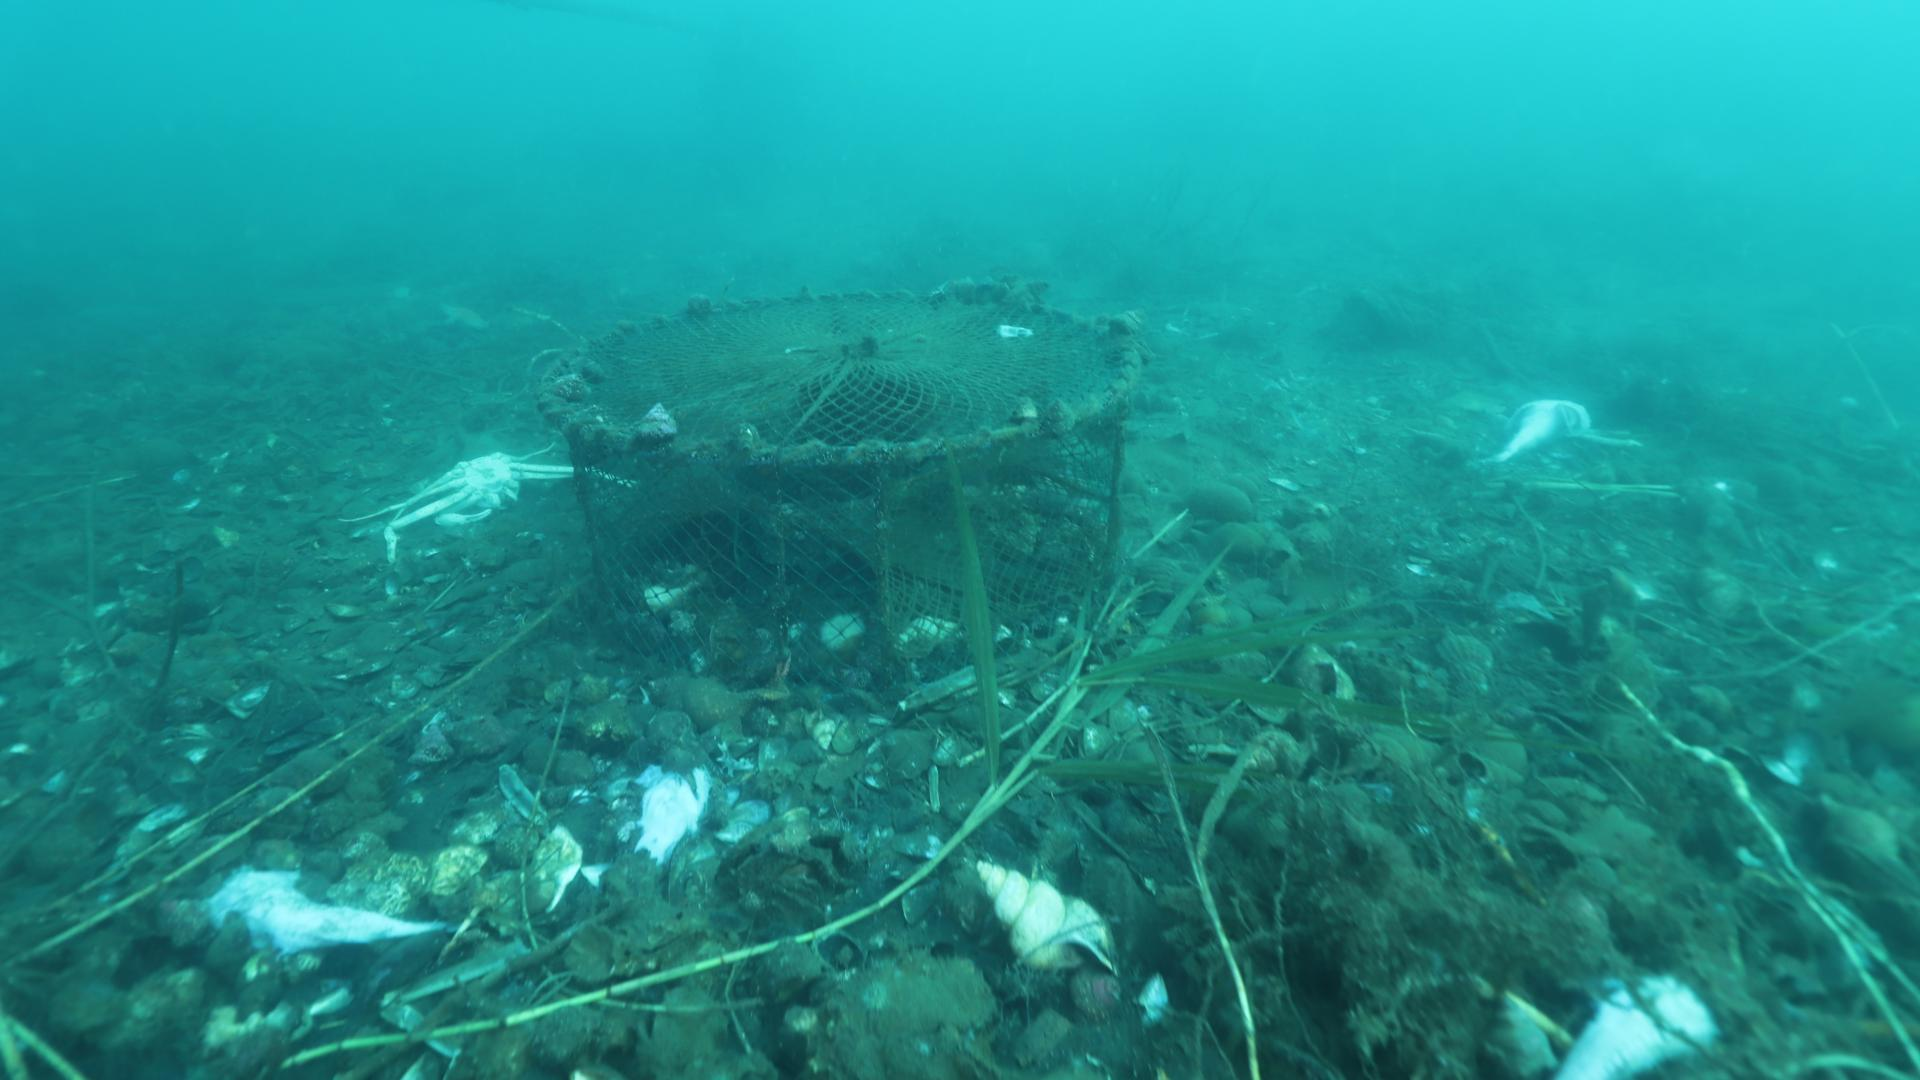circular fish trap: (522, 273, 1155, 684)
